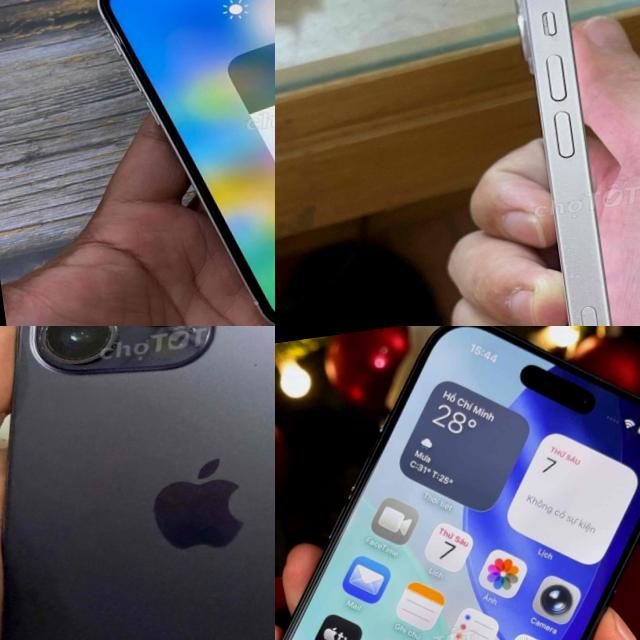gen_12_13: (81, 0, 275, 326), (476, 0, 640, 326)
gen_14: (0, 326, 275, 640)
gen_17: (275, 326, 640, 640)
